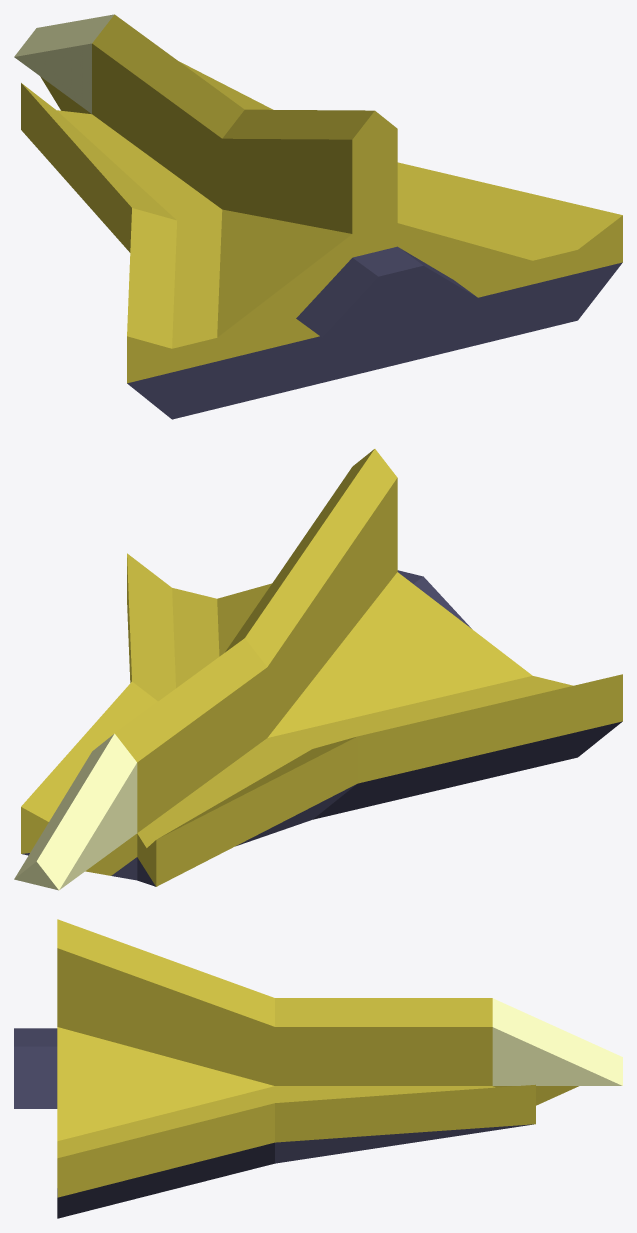
File: Player.dae
3 renders of one model, top to bottom at view 1: azimuth 30°, elevation 25°; view 2: azimuth 150°, elevation 25°; view 3: azimuth 270°, elevation 25°, orthographic. The views are drawn at different scales.
Parts seen in each view (by area): view 1: Cube.002, Cube, Cube.006, Cube.003, Cube.001, Cube.007, Cube.004, Cube.005; view 2: Cube.002, Cube, Cube.003, Cube.001, Cube.005, Cube.007, Cube.006, Cube.004; view 3: Cube.002, Cube, Cube.003, Cube.007, Cube.005, Cube.006, Cube.004.
Boxes of the visible parts, left/top/right/bottom form: Cube.002: left=92, top=14, right=532, bottom=337; Cube: left=21, top=106, right=622, bottom=383; Cube.006: left=127, top=262, right=622, bottom=419; Cube.003: left=222, top=109, right=397, bottom=233; Cube.001: left=21, top=83, right=176, bottom=359; Cube.007: left=179, top=61, right=622, bottom=249; Cube.004: left=296, top=246, right=479, bottom=337; Cube.005: left=14, top=14, right=114, bottom=114; Cube.002: left=115, top=572, right=532, bottom=832; Cube: left=21, top=581, right=622, bottom=886; Cube.003: left=225, top=449, right=397, bottom=666; Cube.001: left=147, top=674, right=622, bottom=863; Cube.005: left=14, top=733, right=137, bottom=890; Cube.007: left=21, top=553, right=175, bottom=830; Cube.006: left=22, top=721, right=622, bottom=886; Cube.004: left=397, top=570, right=471, bottom=628; Cube.002: left=57, top=998, right=492, bottom=1141; Cube: left=57, top=1086, right=535, bottom=1197; Cube.003: left=57, top=919, right=274, bottom=1026; Cube.007: left=57, top=1084, right=535, bottom=1177; Cube.005: left=492, top=998, right=622, bottom=1105; Cube.006: left=57, top=1124, right=533, bottom=1218; Cube.004: left=14, top=1028, right=57, bottom=1108.
Bounding box in the file's own units: 4.4 × 5.6 × 2.2.
